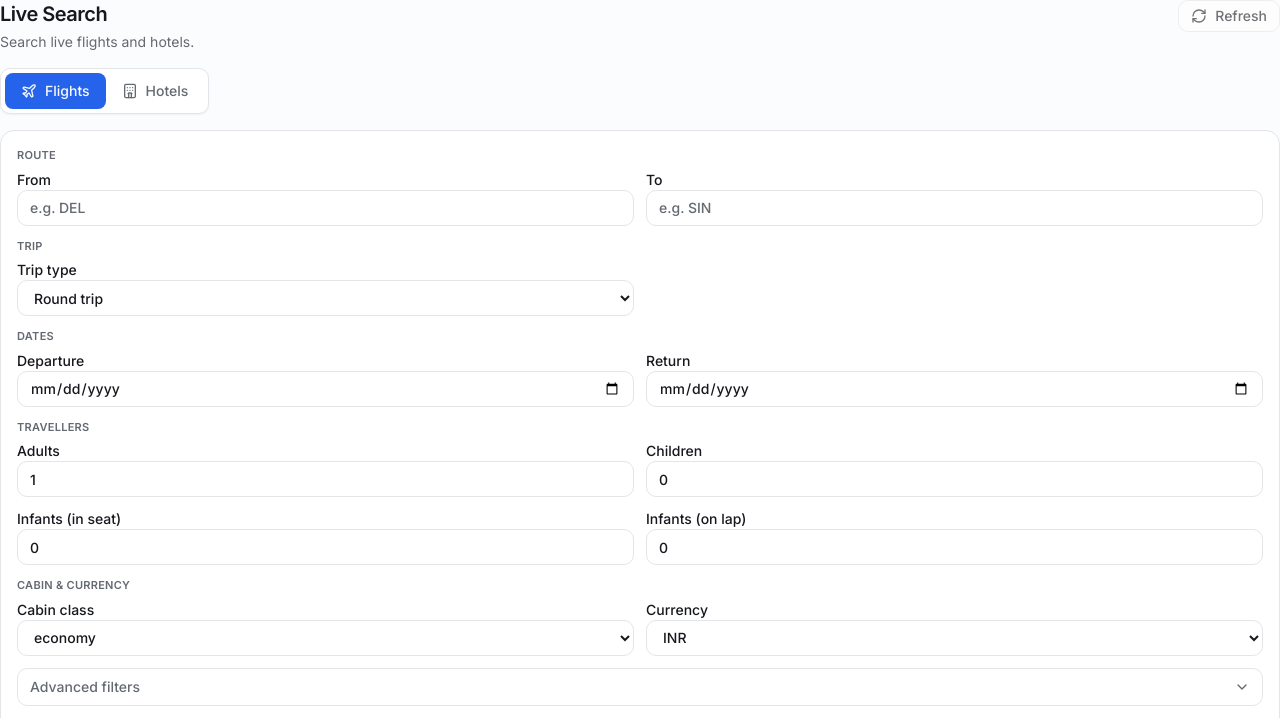
Test: TravelSearchPage › falls back to the thumbnail when the original fails
The image size is (1280, 718).
Click the tab "Hotels". click: (155, 91)
box: [106,73,204,109]
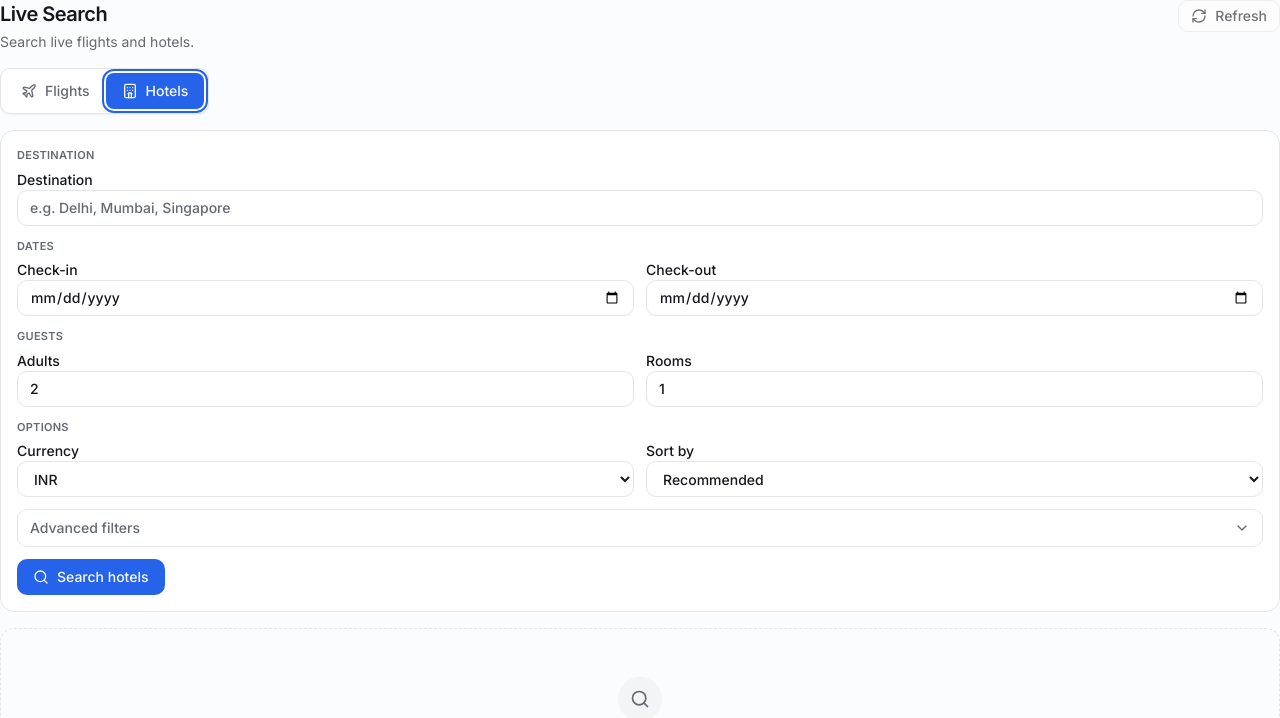
Type "Lucknow" into the field labelled "Destination". click: (640, 208)
box: [17,190,1263,226]
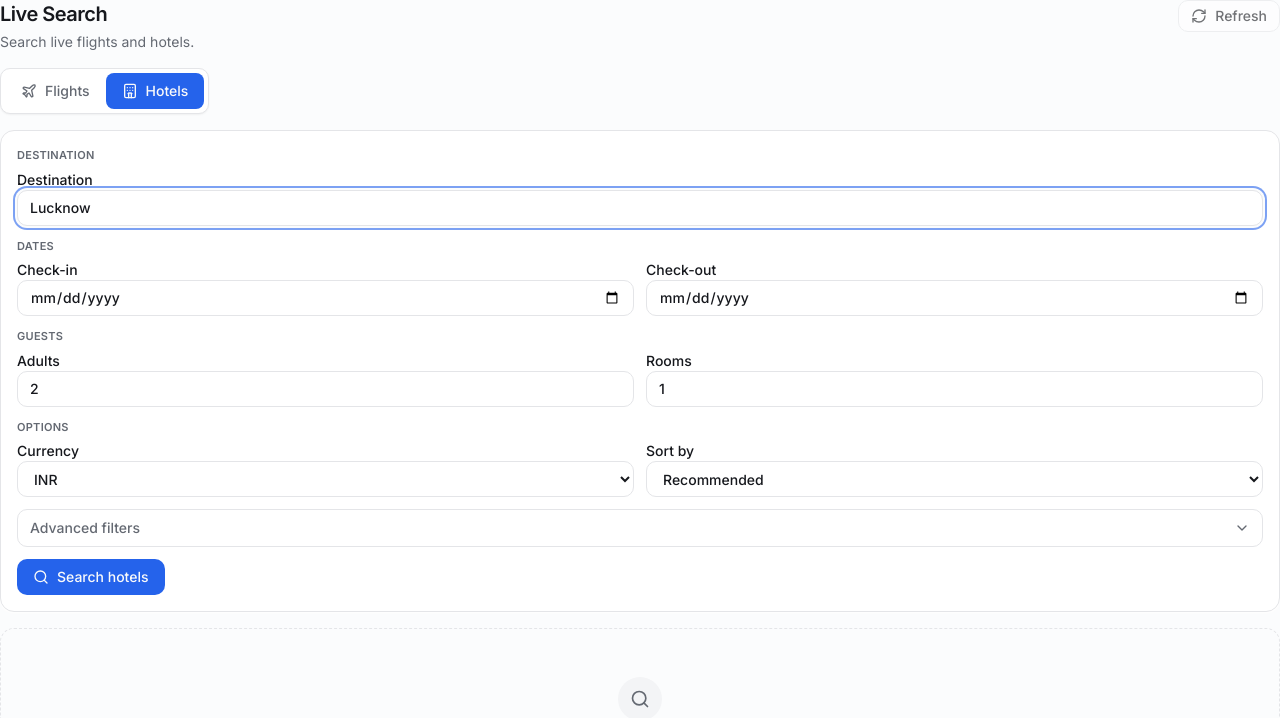
Type "2026-09-10" into the date field named "Check-in date". click: (326, 298)
box: [17,280,634,316]
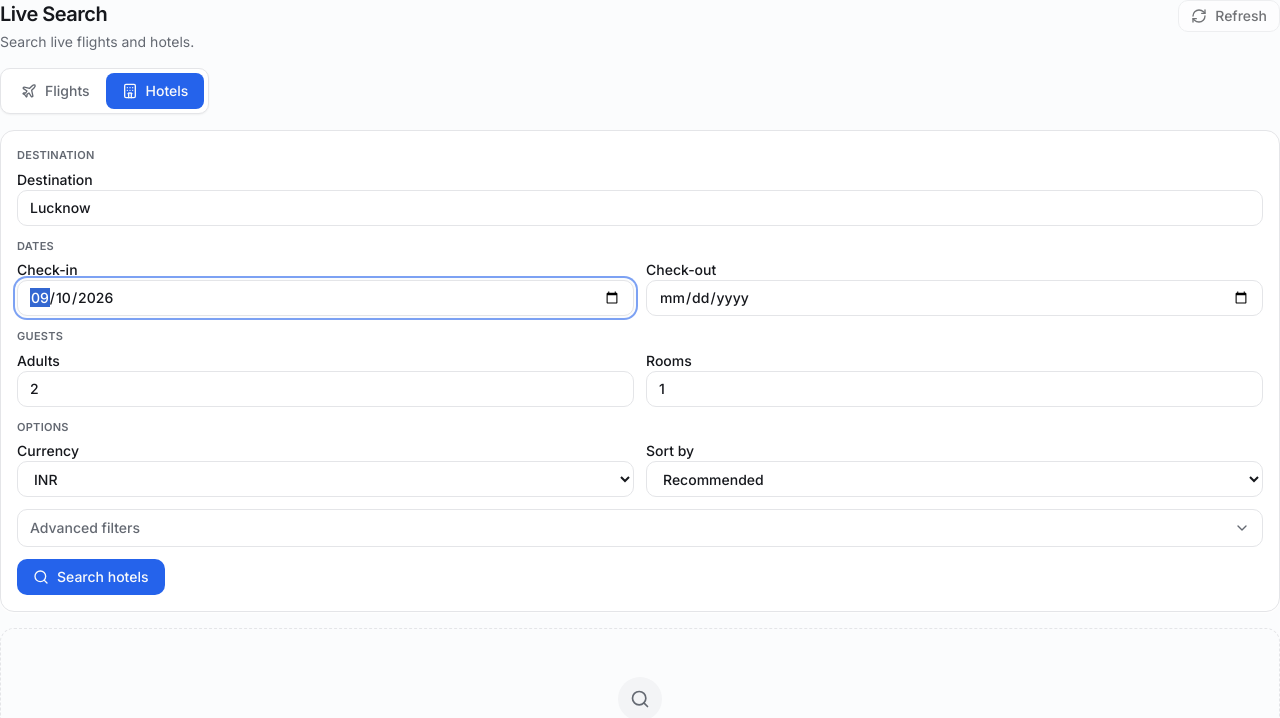
Type "2026-09-12" into the date field named "Check-out date". click: (954, 298)
box: [646,280,1263,316]
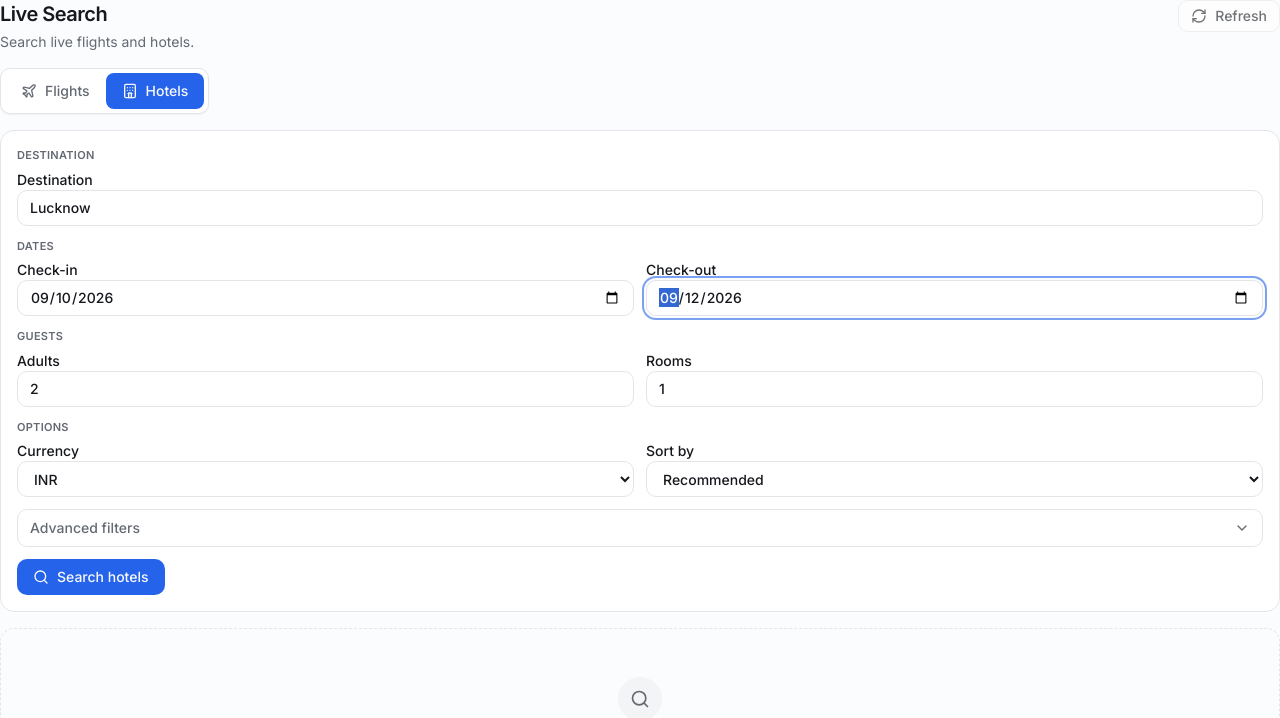
Click the button "Search hotels". click: (91, 577)
box: [17,559,164,595]
(page scrolled)
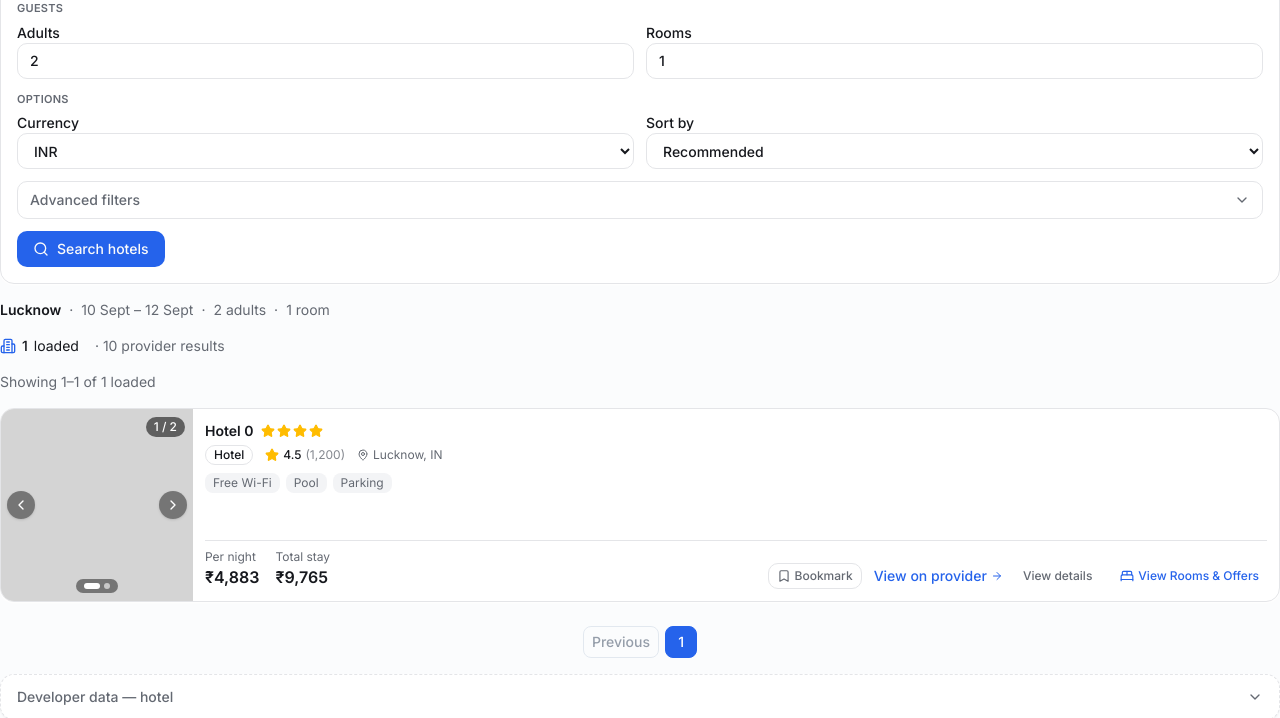
Expected: the heading "Hotel 0" is shown, [205,421,254,441]
Expected: the text "1 / 2" is shown, [146,417,185,437]
